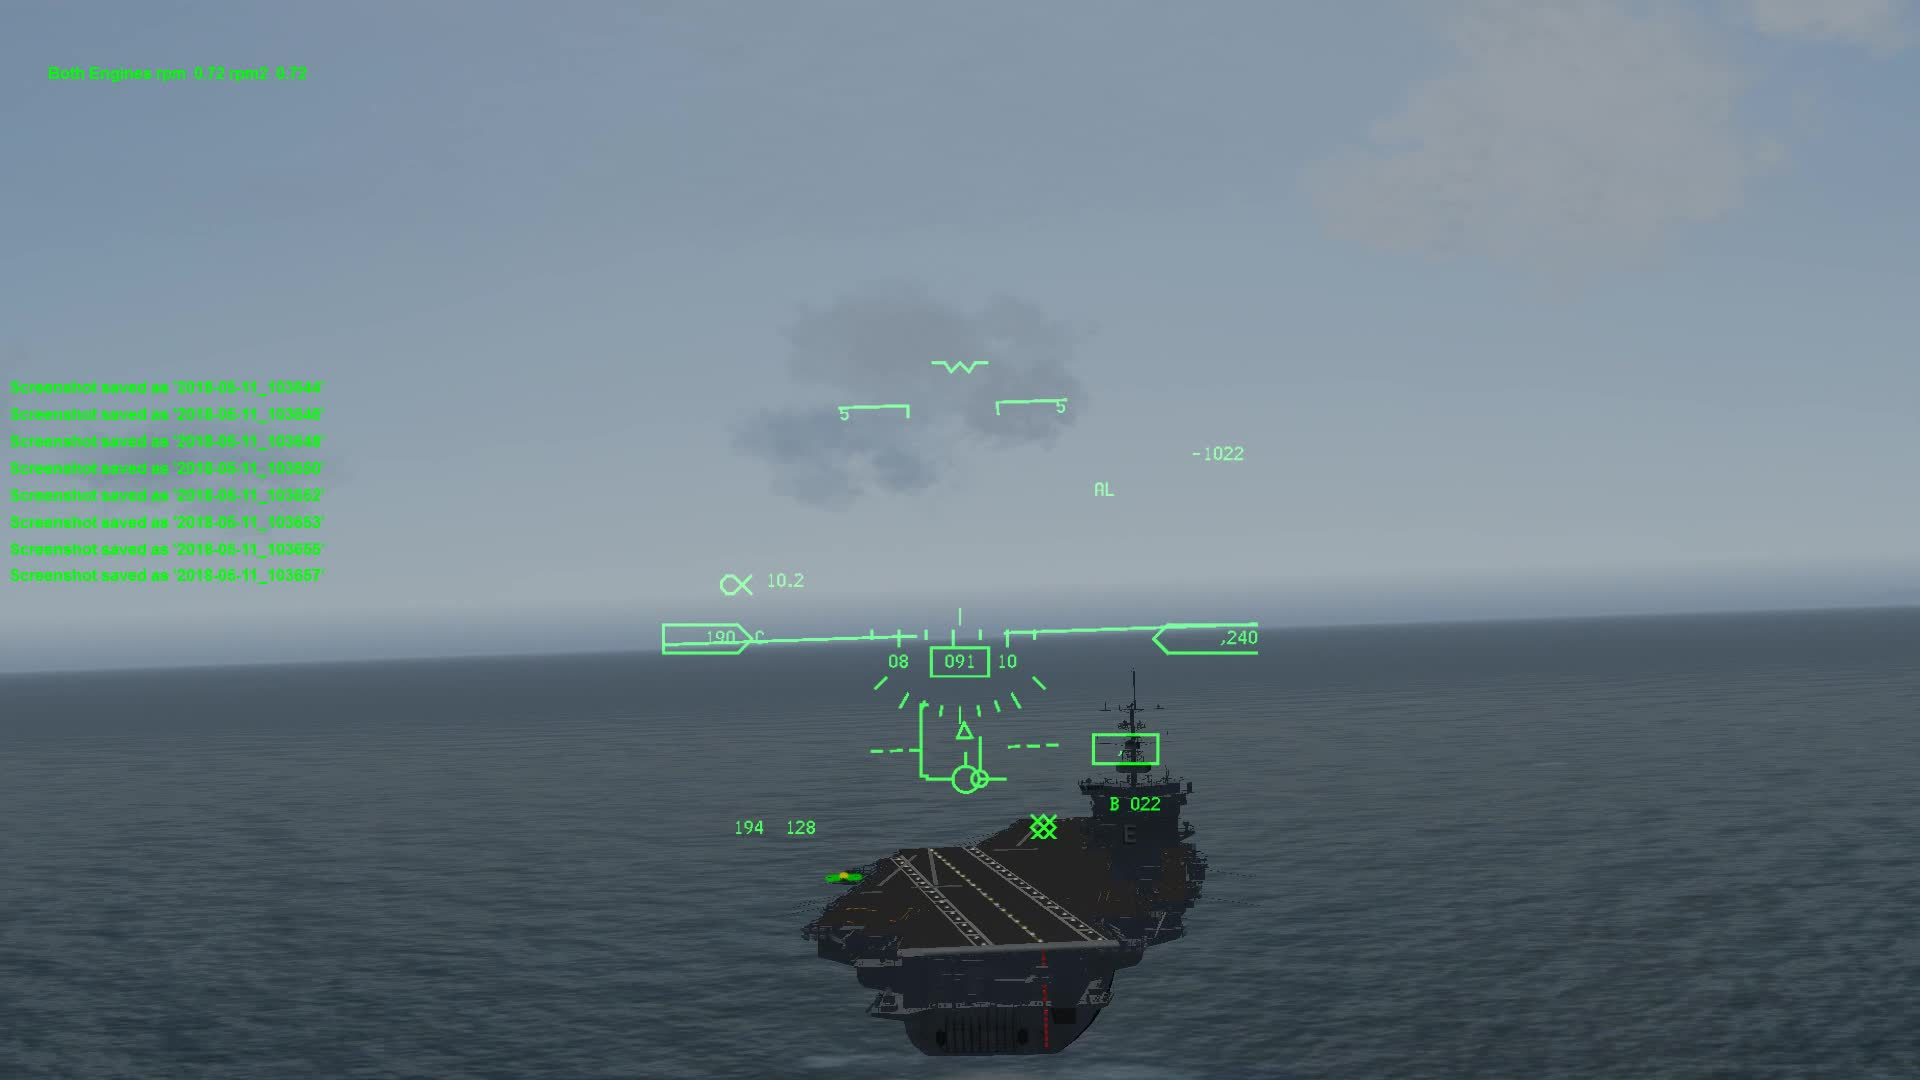speed vector: (927, 746, 1007, 799)
